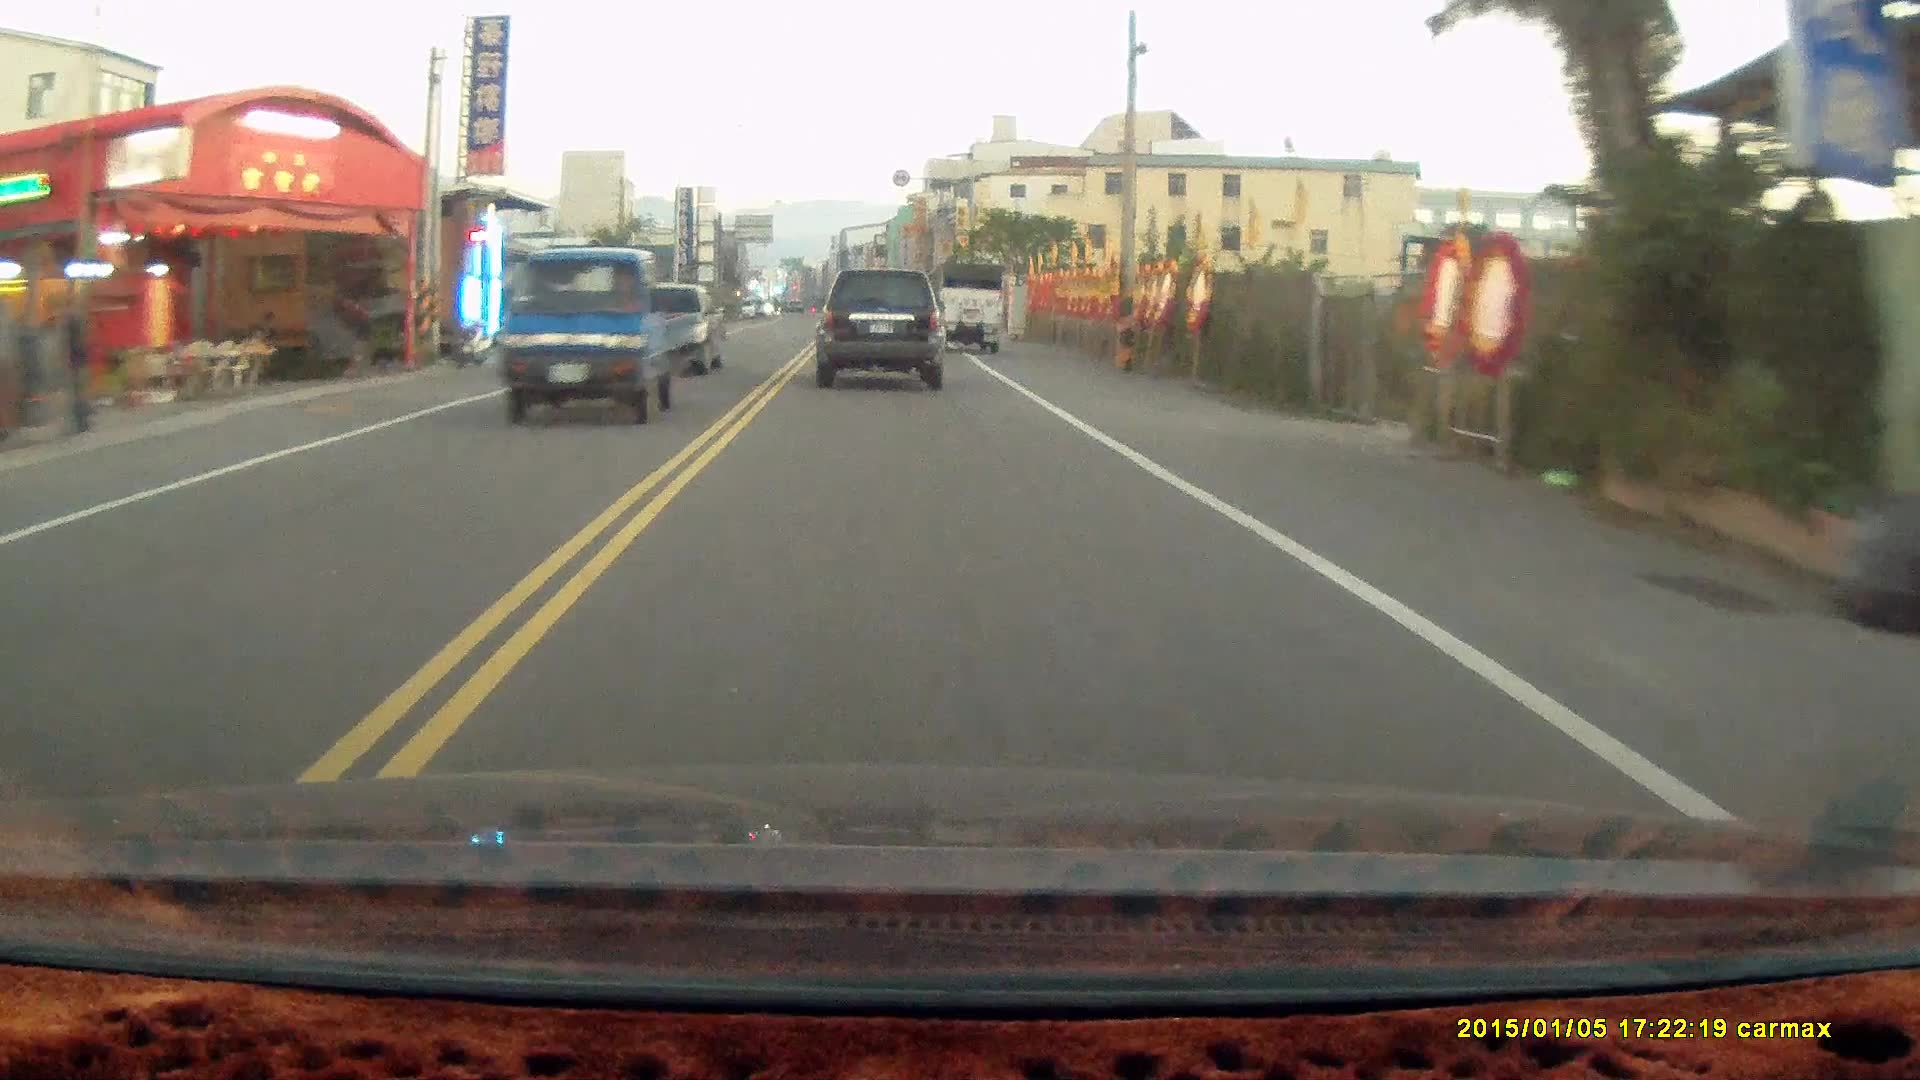vehicle: (497, 253, 704, 419), (818, 265, 953, 393), (936, 262, 1010, 359)
